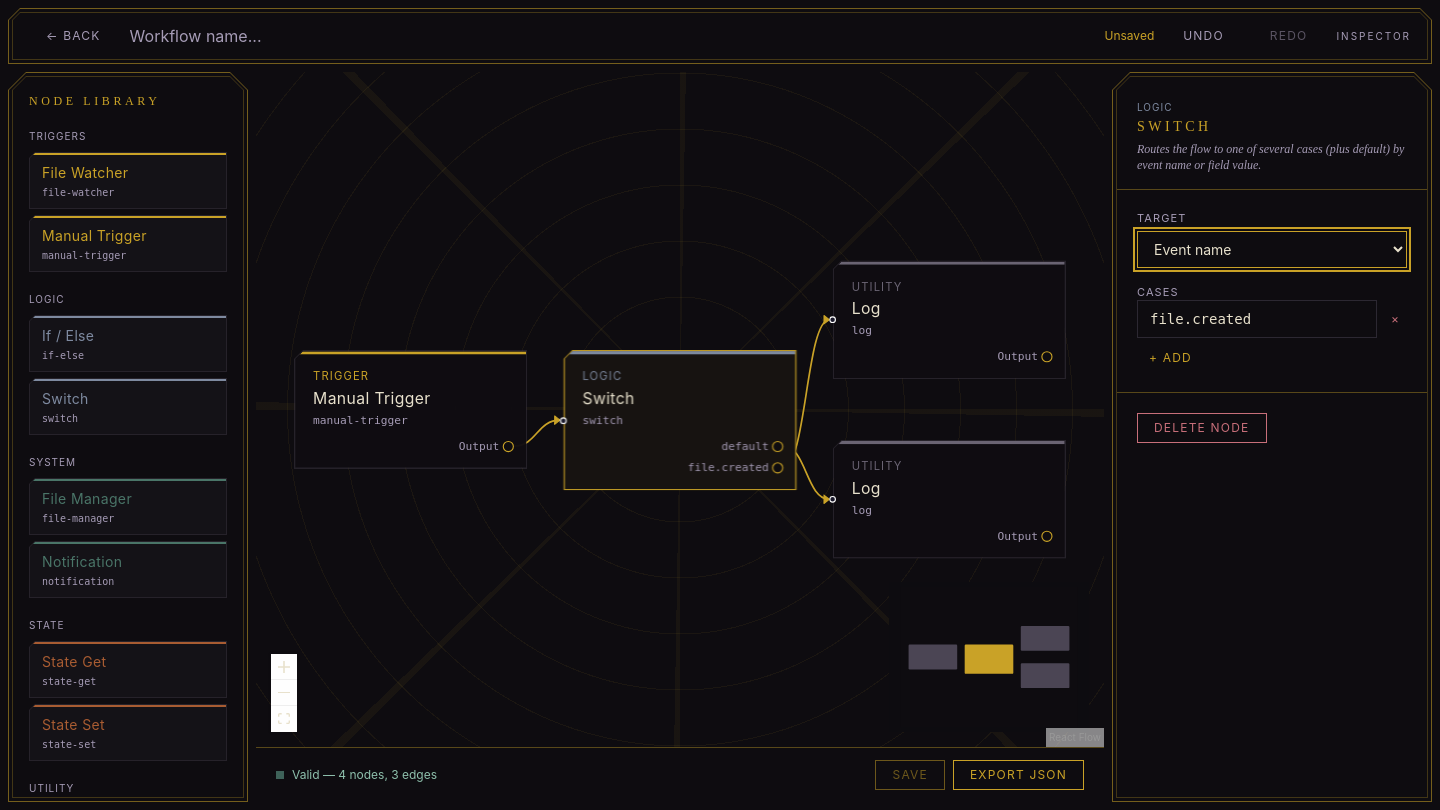
Test: Workflow Builder renderer behavior › shows validation diagnostics and disables saving for an invalid Switch case
The width and height of the screenshot is (1440, 810).
Clear the field named "Cases entry 1" at (1257, 319), box top-left (1137, 300), bottom-right (1377, 338)
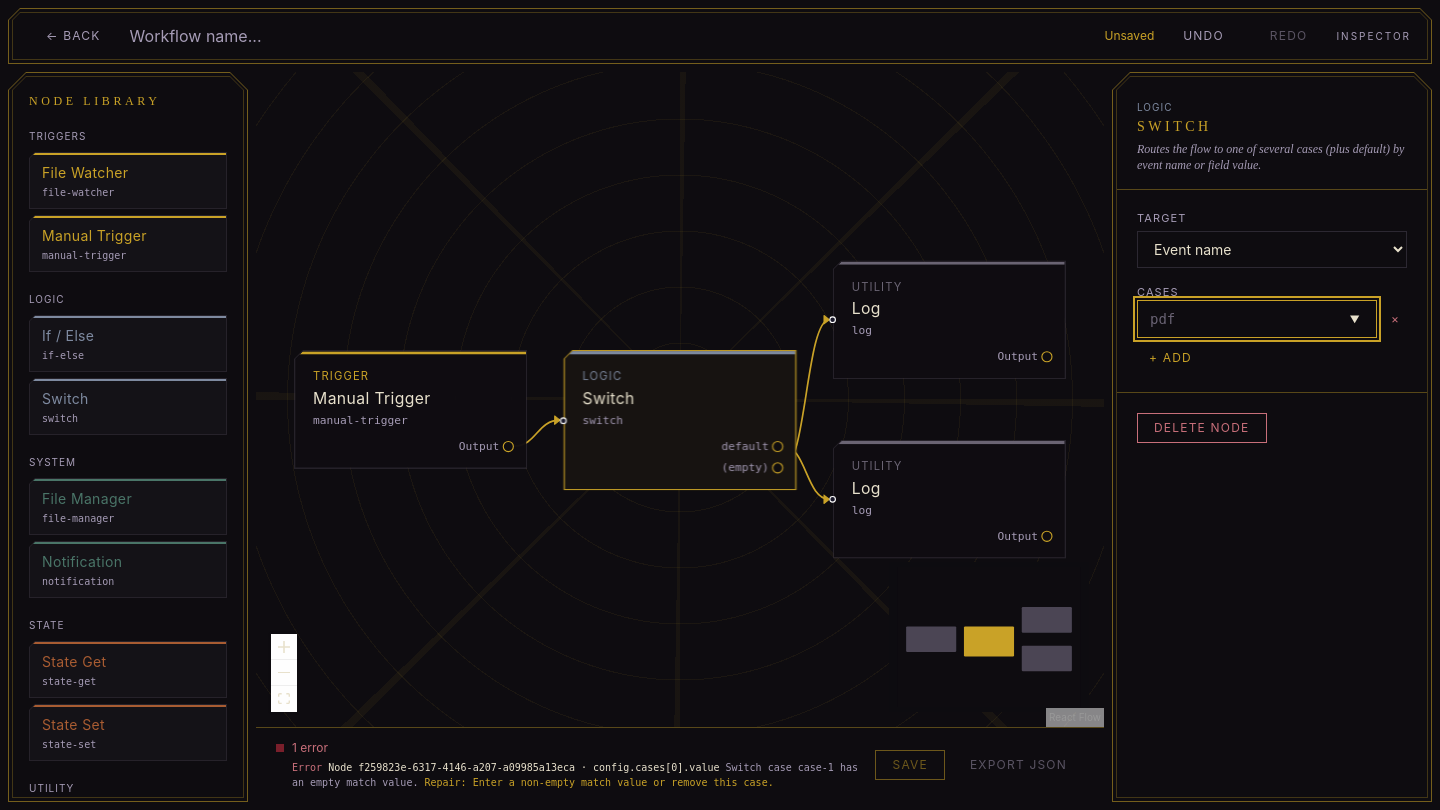
Expected: the button "Save" is disabled, top-left (876, 750), bottom-right (945, 780)
Result: the text "1 error" is shown at top-left (292, 740), bottom-right (328, 756)
Result: the text "Switch case case-1 has an empty match value." is shown at top-left (292, 762), bottom-right (858, 788)
